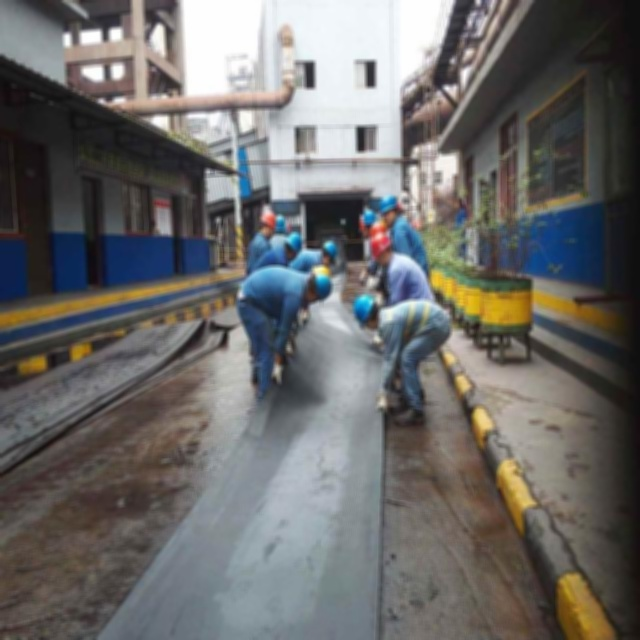Con_Casco: (353, 296, 379, 328), (381, 195, 399, 225)
